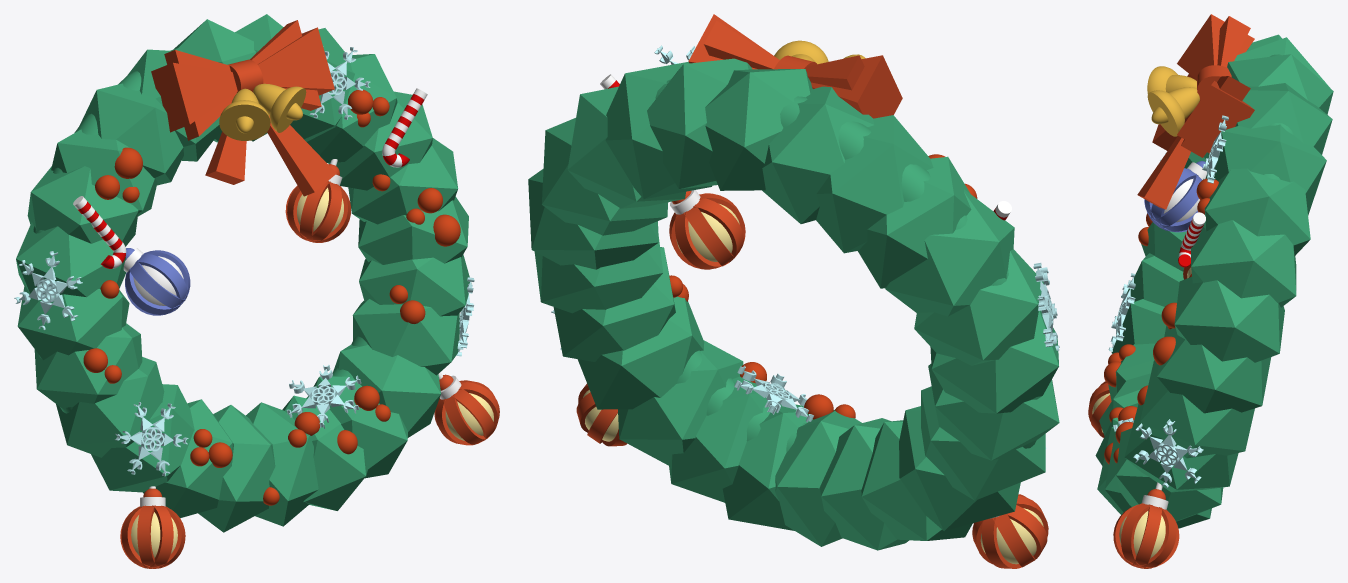
3 views of the same model, side by side, from view 1: azimuth 30°, elevation 25°; view 2: azimuth 150°, elevation 25°; view 3: azimuth 270°, elevation 25° (orthographic). The views are drawn at different scales.
Visible parts, largest first — view 1: Object_1802, Object_1824, Object_1838, Object_1814, Object_1832, Object_1840, Object_1796, Object_1828, Object_1834, Object_1836, Object_1820, Object_1810 (+39 smaller); view 2: Object_1808, Object_1802, Object_1840, Object_1806, Object_1836, Object_1812, Object_1838, Object_1798, Object_1796, Object_1832, Object_1816, Object_1810 (+28 smaller); view 3: Object_1826, Object_1822, Object_1830, Object_1818, Object_1834, Object_1816, Object_1812, Object_1838, Object_1808, Object_1796, Object_1849, Object_1824 (+29 smaller).
Boxes of the visible parts, x1,y1,x2,y2 form: Object_1802: (79, 83, 183, 185); Object_1824: (56, 357, 164, 457); Object_1838: (352, 298, 459, 375); Object_1814: (198, 405, 275, 532); Object_1832: (17, 285, 129, 359); Object_1840: (27, 166, 138, 246); Object_1796: (333, 344, 440, 437); Object_1828: (34, 323, 142, 409); Object_1834: (359, 254, 471, 316); Object_1836: (16, 222, 126, 297); Object_1820: (91, 384, 194, 492); Object_1810: (246, 402, 318, 526); Object_1808: (705, 69, 812, 190); Object_1802: (816, 115, 933, 253); Object_1840: (885, 189, 1014, 316); Object_1806: (762, 86, 874, 223); Object_1836: (914, 249, 1043, 365); Object_1812: (647, 58, 751, 189); Object_1838: (577, 296, 704, 409); Object_1798: (858, 156, 971, 288); Object_1796: (618, 340, 743, 465); Object_1832: (930, 310, 1058, 413); Object_1816: (605, 62, 711, 199); Object_1810: (775, 410, 861, 546); Object_1826: (1174, 276, 1284, 362); Object_1822: (1191, 220, 1296, 307); Object_1830: (1157, 326, 1271, 413); Object_1818: (1203, 168, 1310, 255); Object_1834: (1140, 360, 1254, 458); Object_1816: (1205, 124, 1326, 215); Object_1812: (1208, 83, 1332, 154); Object_1838: (1124, 404, 1238, 492); Object_1808: (1227, 54, 1333, 114); Object_1796: (1116, 428, 1223, 521); Object_1849: (1177, 81, 1254, 153); Object_1824: (1126, 253, 1183, 306).
Bounding box in the file's own units: 80.98 × 78.7 × 37.88.
